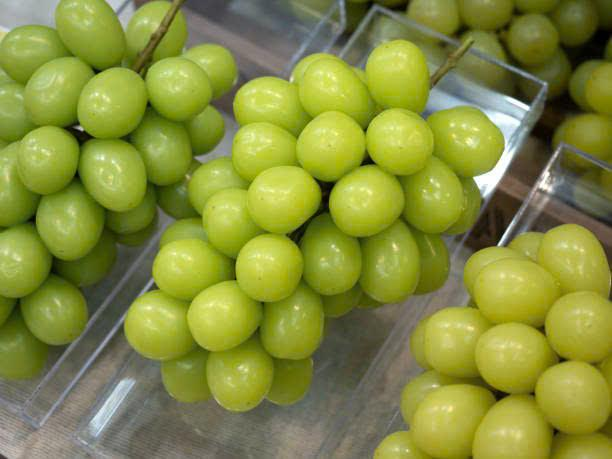grape: (222, 50, 456, 364), (1, 0, 223, 316), (453, 233, 612, 453), (64, 54, 218, 162), (468, 320, 602, 432), (304, 109, 432, 223), (233, 232, 331, 353), (0, 221, 91, 339), (477, 247, 564, 318), (22, 118, 79, 201)
